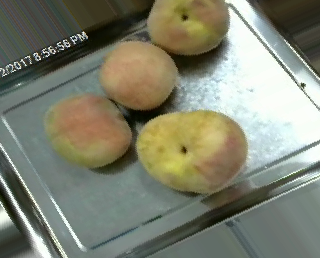Peach: (134, 110, 247, 191), (43, 93, 132, 169), (98, 40, 177, 109), (147, 0, 232, 55)
